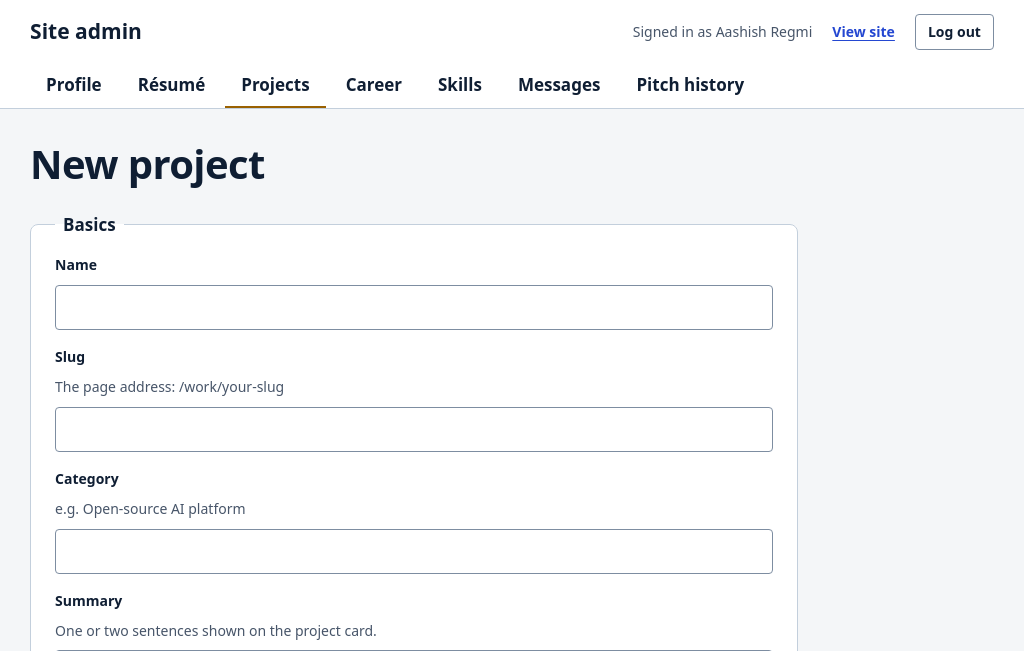
Test: projects › doesn't ask when nothing changed
Expected: the field labelled "Name" is shown, [55,285,773,330]
Click the link "Skills" at coordinates (460, 85), box [438,73,482,96]
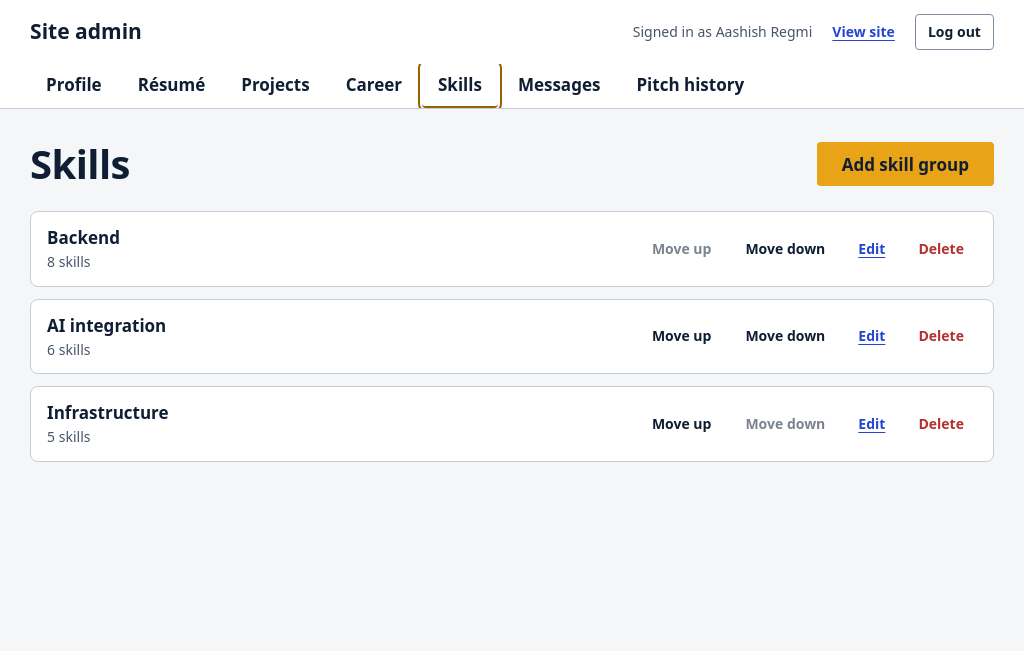
Expected: the heading "Skills" is shown, [30,141,130,187]
